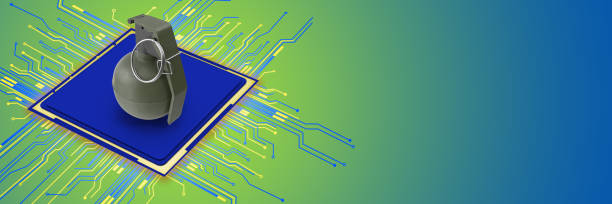e1: (116, 14, 188, 126)
